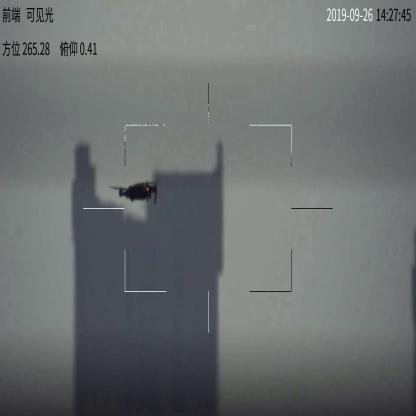uav: (106, 182, 161, 204)
